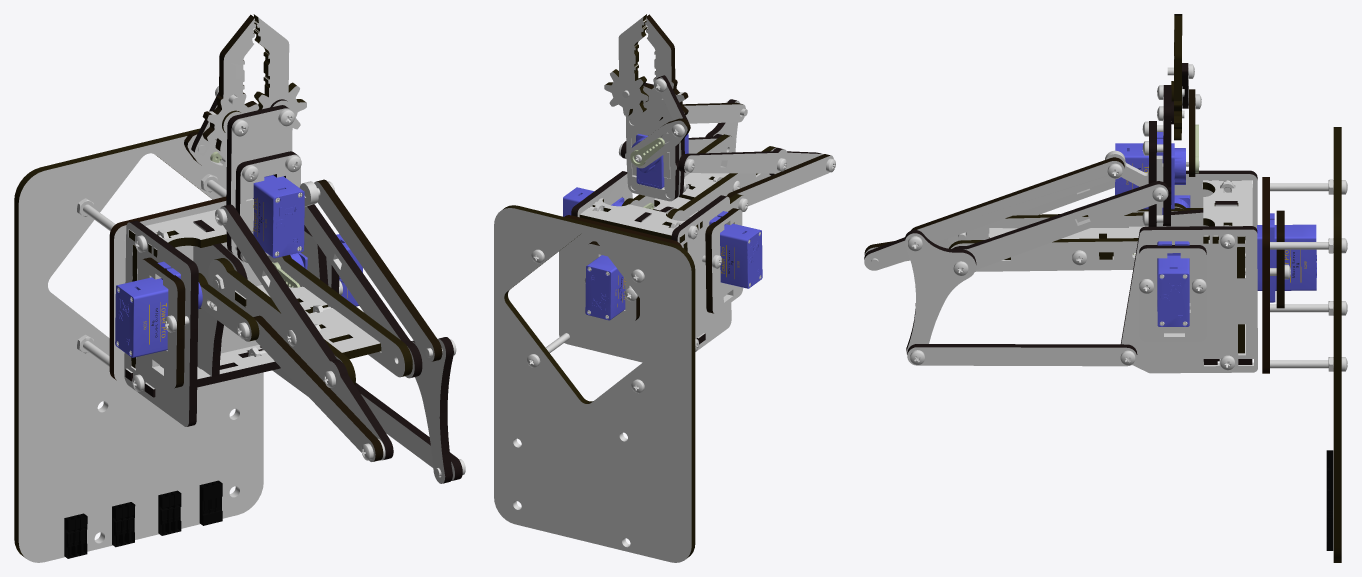
The model's file is braco_mdf_in_mm.glb.
The picture shows the model from 3 angles, left to right: view 1: azimuth 30°, elevation 25°; view 2: azimuth 150°, elevation 25°; view 3: azimuth 270°, elevation 25°; orthographic projection. The views are drawn at different scales.
Parts seen in each view (by area): view 1: SG90ServoMotor_-_GearSet-1_GearTop-1_018-mesh_4, SG90ServoMotor_-_GearSet-1_GearTop-1_018-mesh_5, SG90ServoMotor_-_GearSet-1_GearTop-1_018-mesh_13, SG90ServoMotor_-_GearSet-1_GearTop-1_018-mesh_6, SG90ServoMotor_-_GearSet-1_GearTop-1_018-mesh_2, SG90ServoMotor_-_GearSet-1_GearTop-1_018-mesh_7, SG90ServoMotor_-_GearSet-1_GearTop-1_018-mesh_8, SG90ServoMotor_-_GearSet-1_GearTop-1_018-mesh_9, porca_ROBOT_ARM_4DOF_ASSY_009-mesh, porca_ROBOT_ARM_4DOF_ASSY_013-mesh, porca_ROBOT_ARM_4DOF_ASSY_008-mesh, porca_ROBOT_ARM_4DOF_ASSY_012-mesh; view 2: SG90ServoMotor_-_GearSet-1_GearTop-1_018-mesh_4, SG90ServoMotor_-_GearSet-1_GearTop-1_018-mesh_13, SG90ServoMotor_-_GearSet-1_GearTop-1_018-mesh_6, SG90ServoMotor_-_GearSet-1_GearTop-1_018-mesh_2, SG90ServoMotor_-_GearSet-1_GearTop-1_018-mesh_5, SG90ServoMotor_-_GearSet-1_GearTop-1_018-mesh_7, SG90ServoMotor_-_GearSet-1_GearTop-1_018-mesh_9, SG90ServoMotor_-_GearSet-1_GearTop-1_018-mesh_3, SG90ServoMotor_-_GearSet-1_GearTop-1_018-mesh_8; view 3: SG90ServoMotor_-_GearSet-1_GearTop-1_018-mesh_4, SG90ServoMotor_-_GearSet-1_GearTop-1_018-mesh_13, SG90ServoMotor_-_GearSet-1_GearTop-1_018-mesh_6, SG90ServoMotor_-_GearSet-1_GearTop-1_018-mesh_2, SG90ServoMotor_-_GearSet-1_GearTop-1_018-mesh_5, SG90ServoMotor_-_GearSet-1_GearTop-1_018-mesh_7, SG90ServoMotor_-_GearSet-1_GearTop-1_018-mesh_8.
Part boxes in pixels (bbox=[...]): SG90ServoMotor_-_GearSet-1_GearTop-1_018-mesh_4: bbox=[18, 17, 454, 562]; SG90ServoMotor_-_GearSet-1_GearTop-1_018-mesh_5: bbox=[125, 92, 462, 483]; SG90ServoMotor_-_GearSet-1_GearTop-1_018-mesh_13: bbox=[115, 175, 362, 357]; SG90ServoMotor_-_GearSet-1_GearTop-1_018-mesh_6: bbox=[14, 14, 412, 557]; SG90ServoMotor_-_GearSet-1_GearTop-1_018-mesh_2: bbox=[77, 86, 465, 476]; SG90ServoMotor_-_GearSet-1_GearTop-1_018-mesh_7: bbox=[184, 14, 442, 461]; SG90ServoMotor_-_GearSet-1_GearTop-1_018-mesh_8: bbox=[109, 196, 226, 380]; SG90ServoMotor_-_GearSet-1_GearTop-1_018-mesh_9: bbox=[143, 257, 185, 388]; porca_ROBOT_ARM_4DOF_ASSY_009-mesh: bbox=[199, 480, 222, 525]; porca_ROBOT_ARM_4DOF_ASSY_013-mesh: bbox=[158, 490, 181, 535]; porca_ROBOT_ARM_4DOF_ASSY_008-mesh: bbox=[64, 513, 87, 558]; porca_ROBOT_ARM_4DOF_ASSY_012-mesh: bbox=[112, 502, 135, 547]; SG90ServoMotor_-_GearSet-1_GearTop-1_018-mesh_4: bbox=[494, 17, 833, 562]; SG90ServoMotor_-_GearSet-1_GearTop-1_018-mesh_13: bbox=[563, 133, 762, 320]; SG90ServoMotor_-_GearSet-1_GearTop-1_018-mesh_6: bbox=[503, 14, 776, 557]; SG90ServoMotor_-_GearSet-1_GearTop-1_018-mesh_2: bbox=[527, 78, 835, 393]; SG90ServoMotor_-_GearSet-1_GearTop-1_018-mesh_5: bbox=[571, 75, 821, 344]; SG90ServoMotor_-_GearSet-1_GearTop-1_018-mesh_7: bbox=[589, 14, 830, 320]; SG90ServoMotor_-_GearSet-1_GearTop-1_018-mesh_9: bbox=[705, 208, 739, 313]; SG90ServoMotor_-_GearSet-1_GearTop-1_018-mesh_3: bbox=[630, 137, 664, 209]; SG90ServoMotor_-_GearSet-1_GearTop-1_018-mesh_8: bbox=[564, 215, 681, 246]; SG90ServoMotor_-_GearSet-1_GearTop-1_018-mesh_4: bbox=[864, 30, 1257, 373]; SG90ServoMotor_-_GearSet-1_GearTop-1_018-mesh_13: bbox=[1115, 132, 1316, 326]; SG90ServoMotor_-_GearSet-1_GearTop-1_018-mesh_6: bbox=[949, 15, 1341, 562]; SG90ServoMotor_-_GearSet-1_GearTop-1_018-mesh_2: bbox=[871, 64, 1347, 371]; SG90ServoMotor_-_GearSet-1_GearTop-1_018-mesh_5: bbox=[864, 63, 1257, 364]; SG90ServoMotor_-_GearSet-1_GearTop-1_018-mesh_7: bbox=[864, 14, 1284, 308]; SG90ServoMotor_-_GearSet-1_GearTop-1_018-mesh_8: bbox=[1262, 177, 1269, 373].
Size of the model in its own units: 95.19 by 215 by 183.
